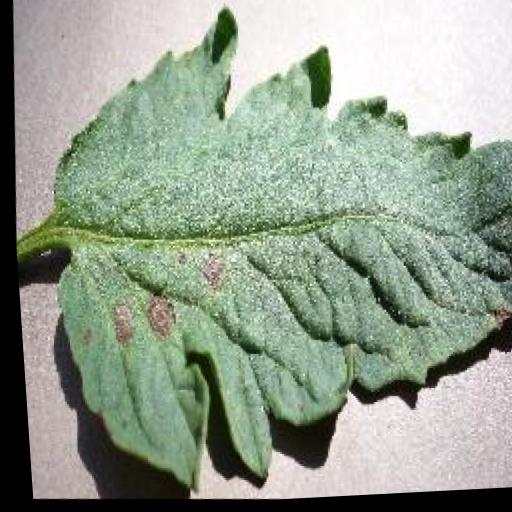Early Blight: (23, 0, 512, 511)
